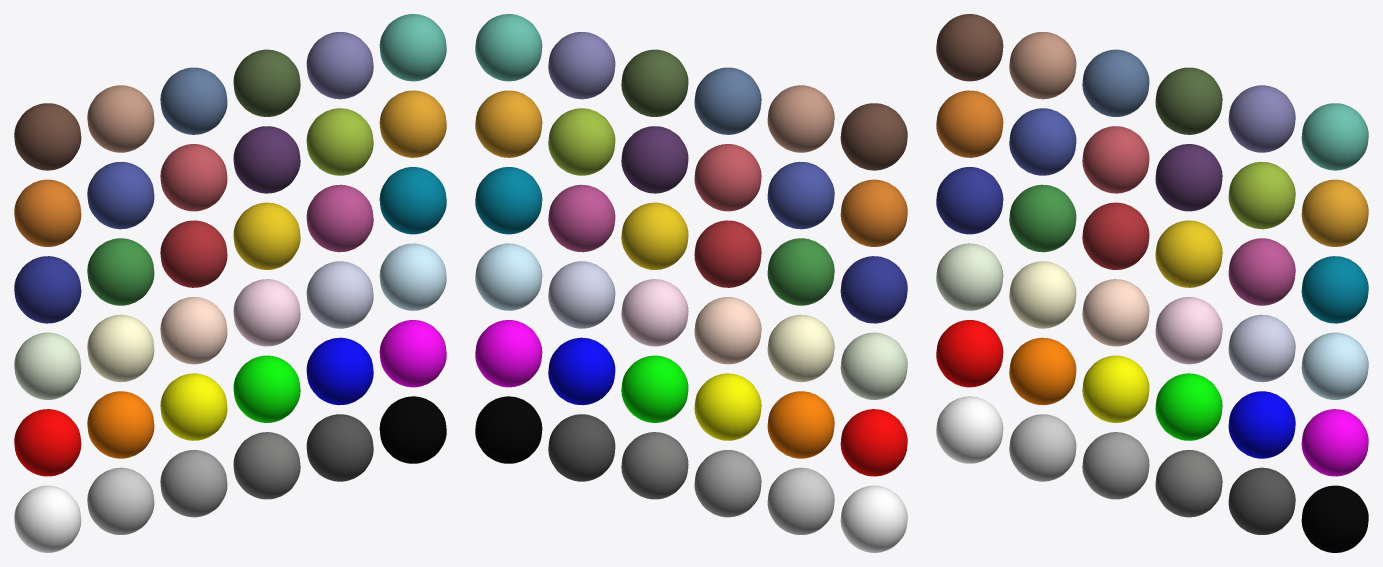
The model's file is DisplayMappingPQ-sunny.gltf.
The picture shows the model from 3 angles, left to right: view 1: azimuth 30°, elevation 25°; view 2: azimuth 150°, elevation 25°; view 3: azimuth 330°, elevation 25°; orthographic projection.
Parts seen in each view (by area): view 1: RootNode; view 2: RootNode; view 3: RootNode.
Boxes of the visible parts, x1,y1,x2,y2 form: RootNode: (14,14,446,552); RootNode: (475,14,907,552); RootNode: (936,14,1368,552).
Bounding box in the file's own units: 0.145 × 0.145 × 0.02.
Materials: 1 (1 with a texture image).
